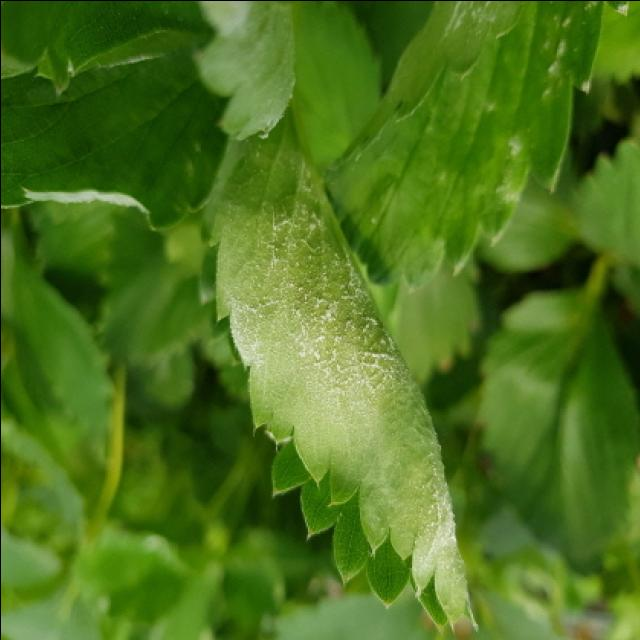Powdery Mildew Leaf: (197, 99, 484, 633), (321, 2, 628, 293), (2, 28, 232, 230)
